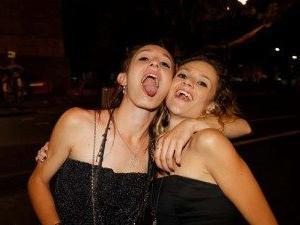Drunk: (132, 47, 169, 109), (170, 64, 214, 115)
